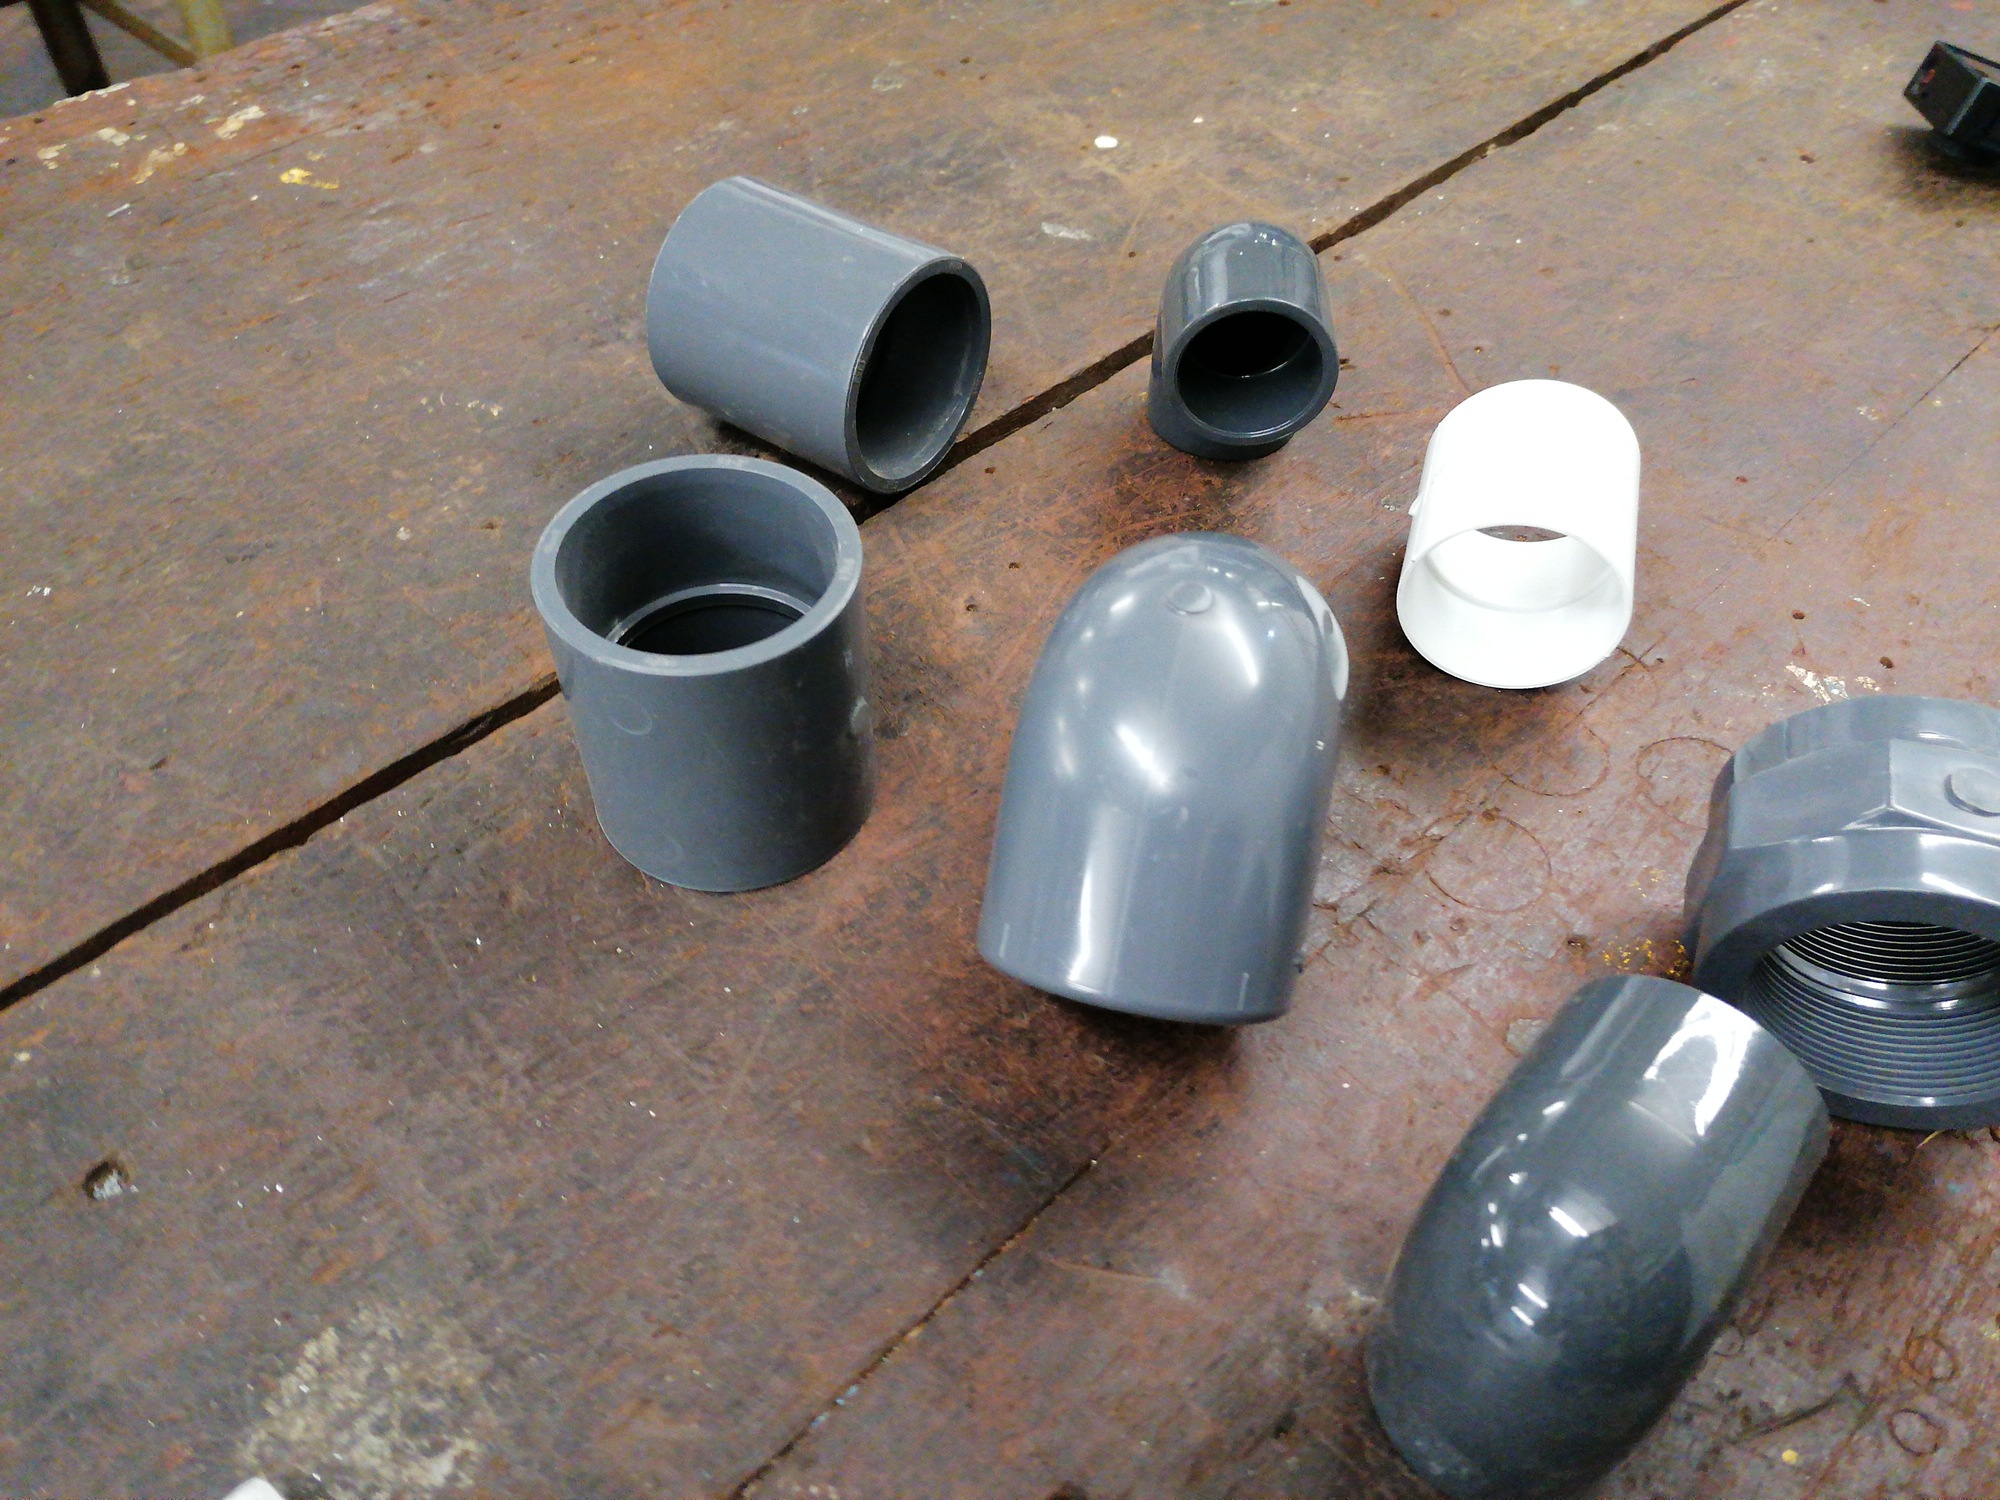nut: (1674, 692, 1998, 1131)
pipe: (1357, 971, 1836, 1495), (1460, 619, 1991, 1065), (973, 529, 1353, 1026), (521, 446, 879, 908), (643, 178, 995, 495), (1395, 373, 1643, 693)
